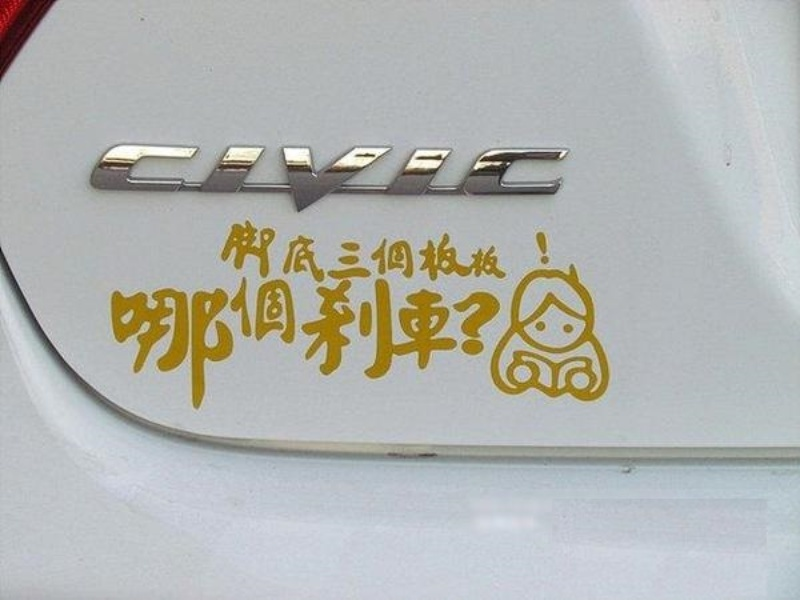text: (113, 278, 128, 410), (129, 278, 144, 410), (145, 278, 160, 410), (161, 278, 176, 410), (177, 278, 192, 410), (193, 278, 208, 410), (209, 278, 224, 410), (225, 278, 240, 410), (241, 278, 256, 410), (257, 278, 272, 410), (273, 278, 288, 410), (289, 278, 304, 410), (305, 278, 320, 410), (321, 278, 336, 410), (337, 278, 352, 410), (353, 278, 368, 410), (369, 278, 384, 410), (385, 278, 400, 410), (401, 278, 416, 410), (417, 278, 432, 410), (433, 278, 448, 410), (449, 278, 464, 410), (465, 278, 480, 410), (481, 278, 496, 410), (97, 138, 112, 219), (113, 138, 128, 219), (129, 138, 144, 219), (145, 138, 160, 219), (161, 138, 176, 219), (177, 138, 192, 219), (193, 138, 208, 219), (209, 138, 224, 219), (225, 138, 240, 219), (241, 138, 256, 219), (257, 138, 272, 219), (273, 138, 288, 219), (289, 138, 304, 219), (305, 138, 320, 219), (321, 138, 336, 219), (337, 138, 352, 219), (353, 138, 368, 219), (369, 138, 384, 219), (385, 138, 400, 219), (401, 138, 416, 219), (417, 138, 432, 219), (433, 138, 448, 219), (449, 138, 464, 219), (465, 138, 480, 219), (481, 138, 496, 219), (497, 138, 512, 219), (513, 138, 528, 219), (529, 138, 544, 219), (545, 138, 560, 219), (225, 219, 240, 282), (241, 219, 256, 282), (257, 219, 272, 282), (273, 219, 288, 282), (289, 219, 304, 282), (305, 219, 320, 282), (321, 219, 336, 282), (337, 219, 352, 282), (353, 219, 368, 282), (369, 219, 384, 282), (385, 219, 400, 282), (401, 219, 416, 282), (417, 219, 432, 282), (433, 219, 448, 282), (449, 219, 464, 282), (465, 219, 480, 282), (481, 219, 496, 282), (497, 219, 509, 282), (561, 138, 570, 219), (497, 278, 502, 410), (89, 138, 96, 219), (535, 231, 544, 269), (219, 219, 224, 282), (110, 278, 112, 410), (545, 231, 551, 269)
